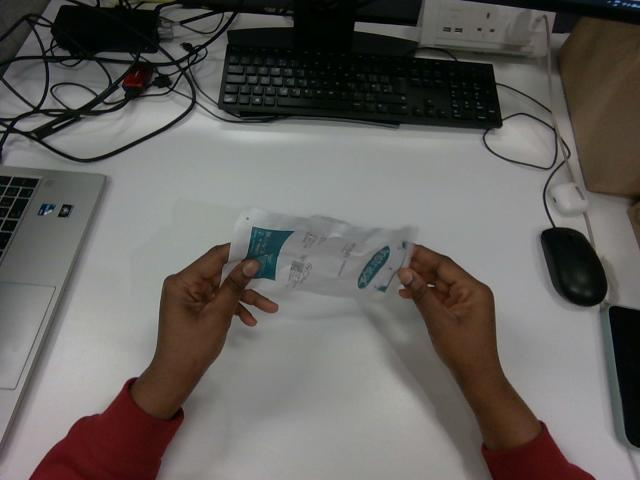gallipot: (223, 208, 416, 298)
